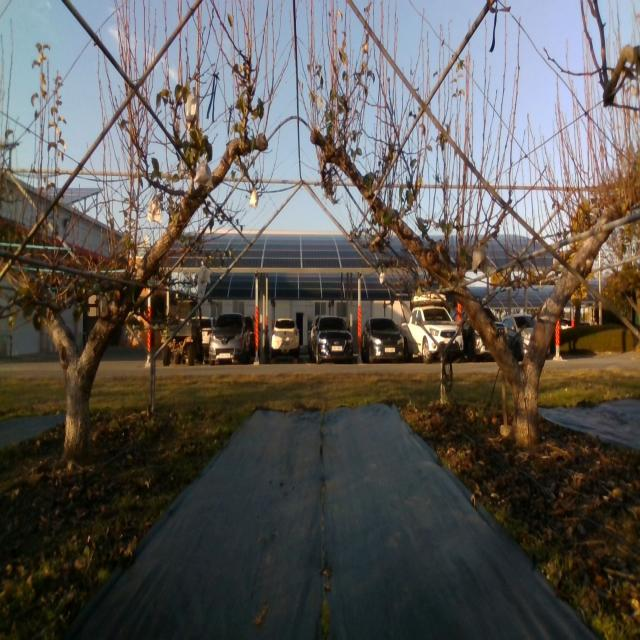pearbags: (194, 162, 213, 188), (148, 193, 162, 223), (473, 249, 488, 275), (187, 92, 198, 123), (198, 266, 210, 283)
